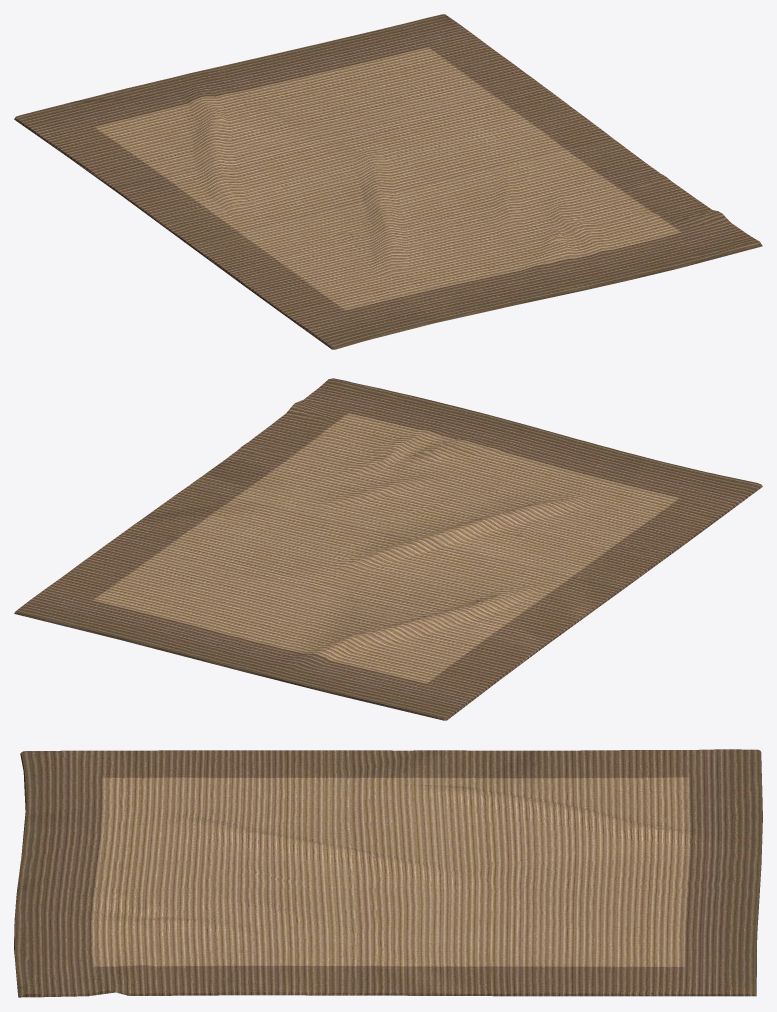
File: Carpet.FBX
3 views of the same model, one above another, from view 1: azimuth 30°, elevation 25°; view 2: azimuth 150°, elevation 25°; view 3: azimuth 270°, elevation 25° (orthographic). The views are drawn at different scales.
Parts seen in each view (by area): view 1: Carpet; view 2: Carpet; view 3: Carpet.
Boxes of the visible parts, box(x1,y1,x2,y2) form: Carpet: box(14, 14, 762, 349); Carpet: box(14, 378, 762, 720); Carpet: box(14, 749, 762, 997).
Size of the model in its own units: 192 by 3.52 by 247.
Materials: 1 (1 with a texture image).
